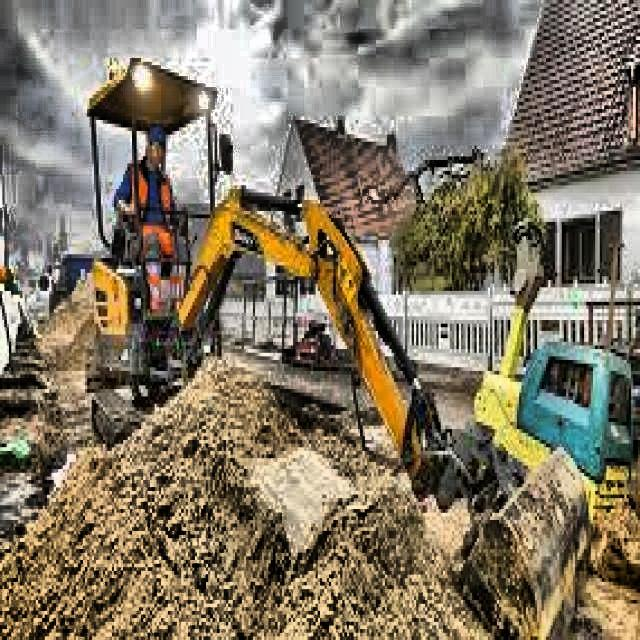bull_dozer/loader/grader: (81, 31, 596, 640)
person: (109, 115, 190, 326)
